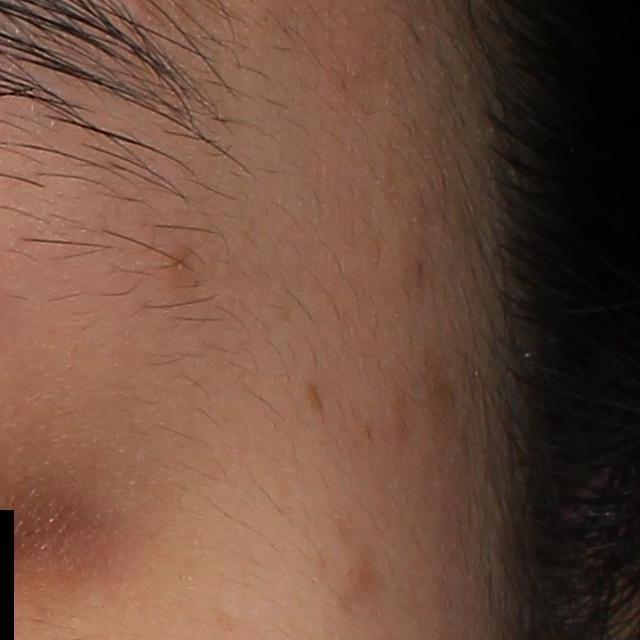melasma: (304, 385, 327, 418)
